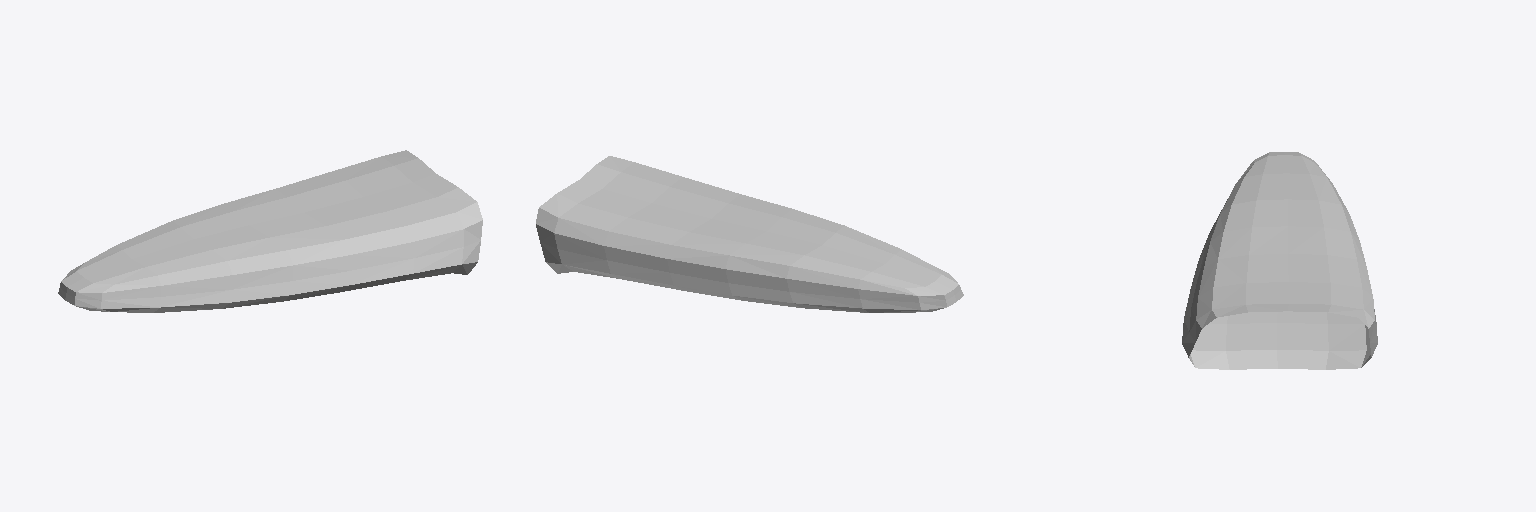
The model's file is alaizq.obj.
3 views of the same model, side by side, from view 1: azimuth 30°, elevation 25°; view 2: azimuth 150°, elevation 25°; view 3: azimuth 270°, elevation 25° (orthographic).
Visible parts, largest first — view 1: Linux_Penguin__Torso_; view 2: Linux_Penguin__Torso_; view 3: Linux_Penguin__Torso_.
Part boxes in pixels (left/top/right/bottom): Linux_Penguin__Torso_: left=58, top=150, right=482, bottom=312; Linux_Penguin__Torso_: left=536, top=156, right=963, bottom=312; Linux_Penguin__Torso_: left=1182, top=152, right=1377, bottom=369.
Size of the model in its own units: 14.3 by 2.5 by 6.39.